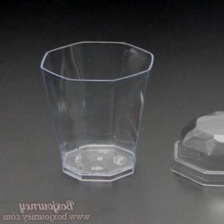glass: (34, 37, 159, 186)
